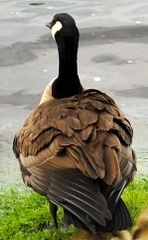goose: (10, 8, 142, 236)
